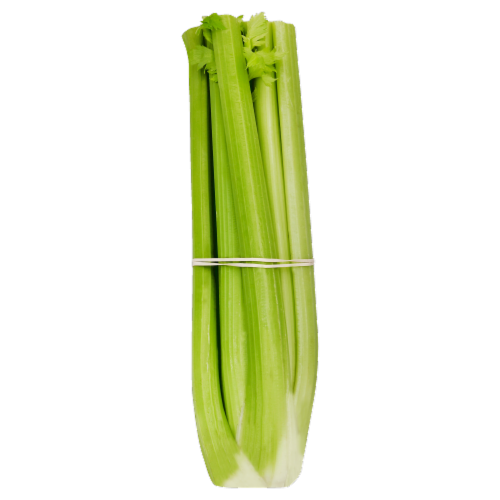Seledri: (161, 9, 362, 497)
